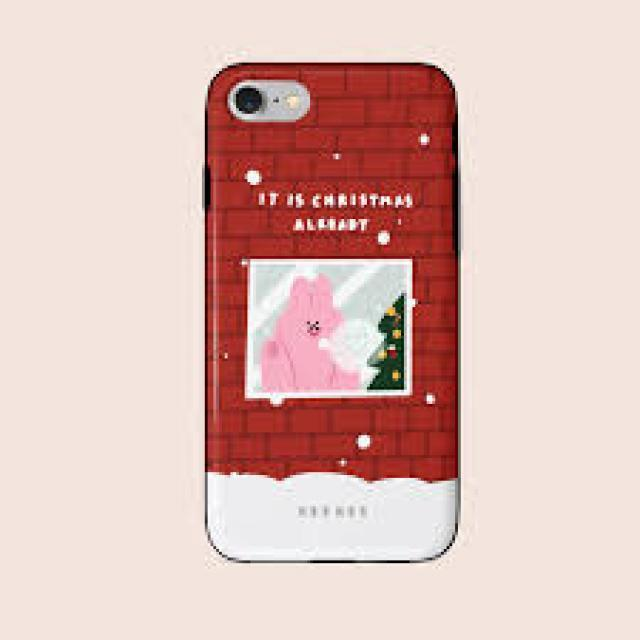Phone: (202, 56, 460, 569)
